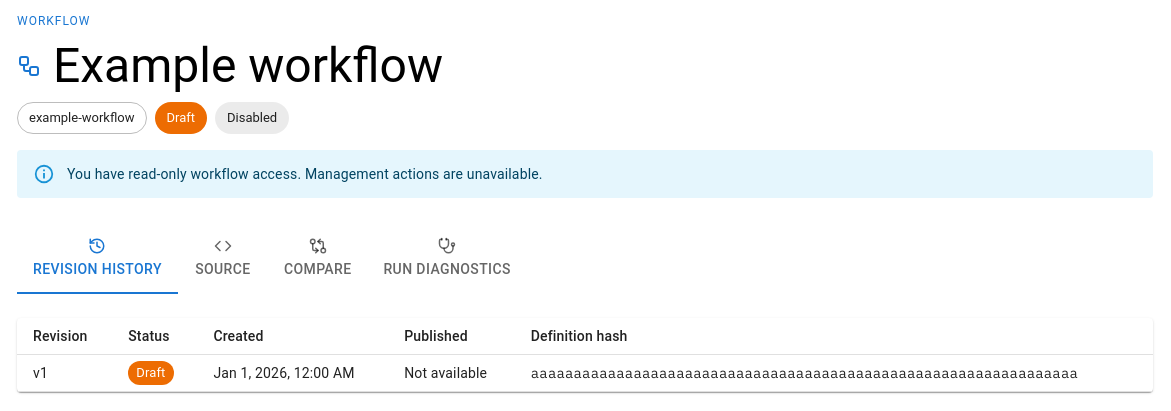
WorkflowDetailPage › refreshes run diagnostics until a run finishes
Click the tab "Run diagnostics": click(447, 258) [368,222,527,294]
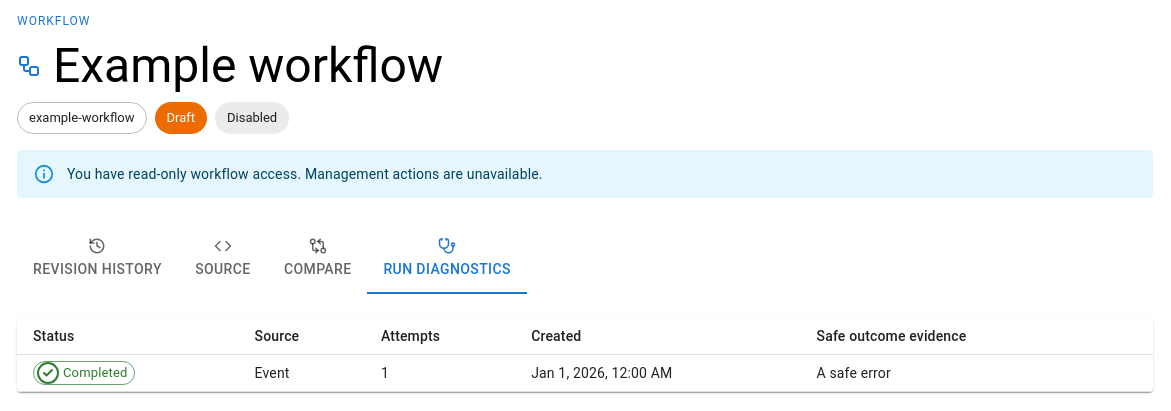
expect the text "Completed" is shown: met, box [63,365,128,380]
